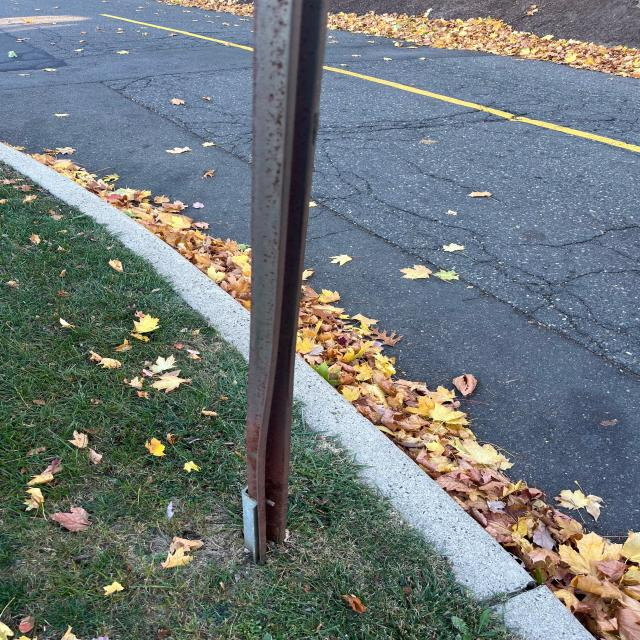Filiform Corrosion: (255, 1, 323, 311)
Uniform Corrosion: (244, 303, 293, 556)
